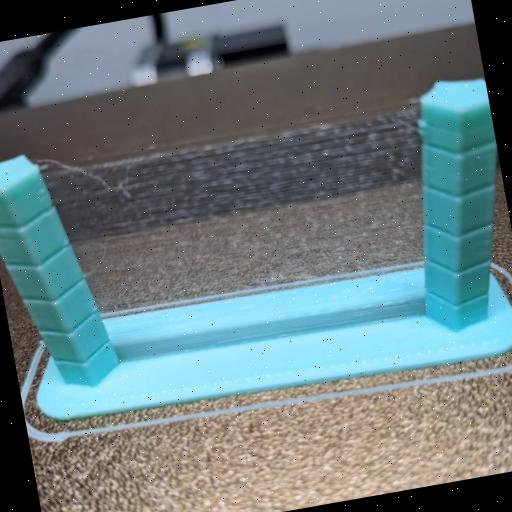stringing: (36, 90, 446, 308)
